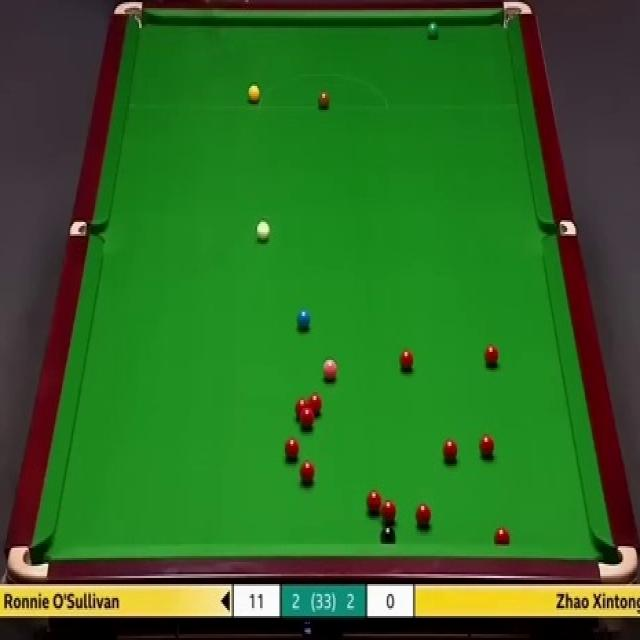black-ball: (380, 526, 396, 544)
blue-ball: (296, 308, 312, 329)
brown-ball: (318, 88, 330, 108)
green-ball: (426, 22, 439, 40)
pink-ball: (322, 359, 339, 384)
red-ball: (442, 438, 460, 464), (381, 497, 397, 526), (398, 346, 415, 373), (415, 504, 432, 530), (281, 439, 301, 461), (366, 490, 382, 516), (479, 434, 496, 458), (298, 462, 316, 483), (484, 344, 498, 369), (294, 398, 308, 422), (309, 393, 322, 418), (493, 526, 511, 543), (300, 411, 316, 430)
white-ball: (255, 220, 270, 246)
yellow-ball: (247, 86, 259, 102)
